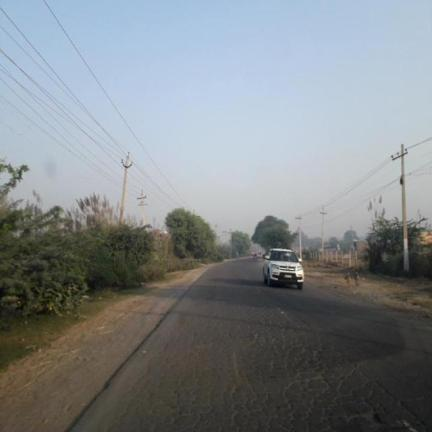Road: (73, 260, 431, 431)
